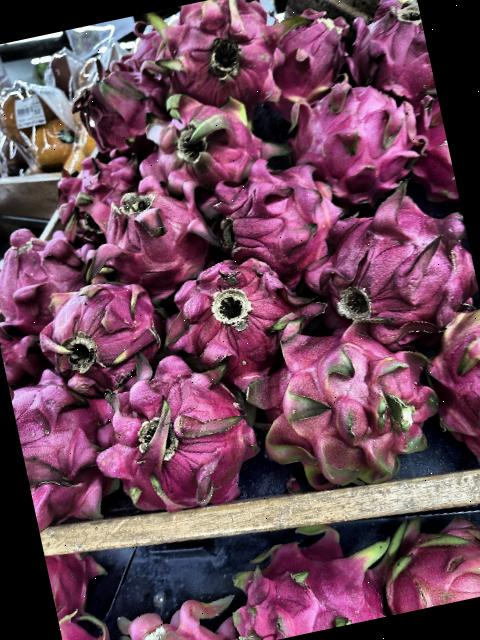buah-naga-matang: (242, 306, 450, 496), (85, 342, 270, 520), (309, 178, 480, 344), (158, 237, 336, 384), (217, 510, 401, 640), (124, 70, 292, 210), (7, 357, 136, 536), (274, 63, 434, 207), (198, 140, 353, 278), (72, 163, 228, 294), (136, 0, 299, 124), (29, 261, 171, 387), (374, 486, 480, 614), (61, 52, 173, 152), (0, 217, 98, 329), (42, 148, 163, 238), (343, 0, 437, 109), (424, 304, 480, 469), (267, 3, 360, 96)
